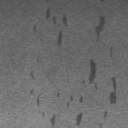red iron: (50, 16, 116, 126), (34, 8, 67, 48), (30, 89, 40, 105), (30, 70, 34, 78)
